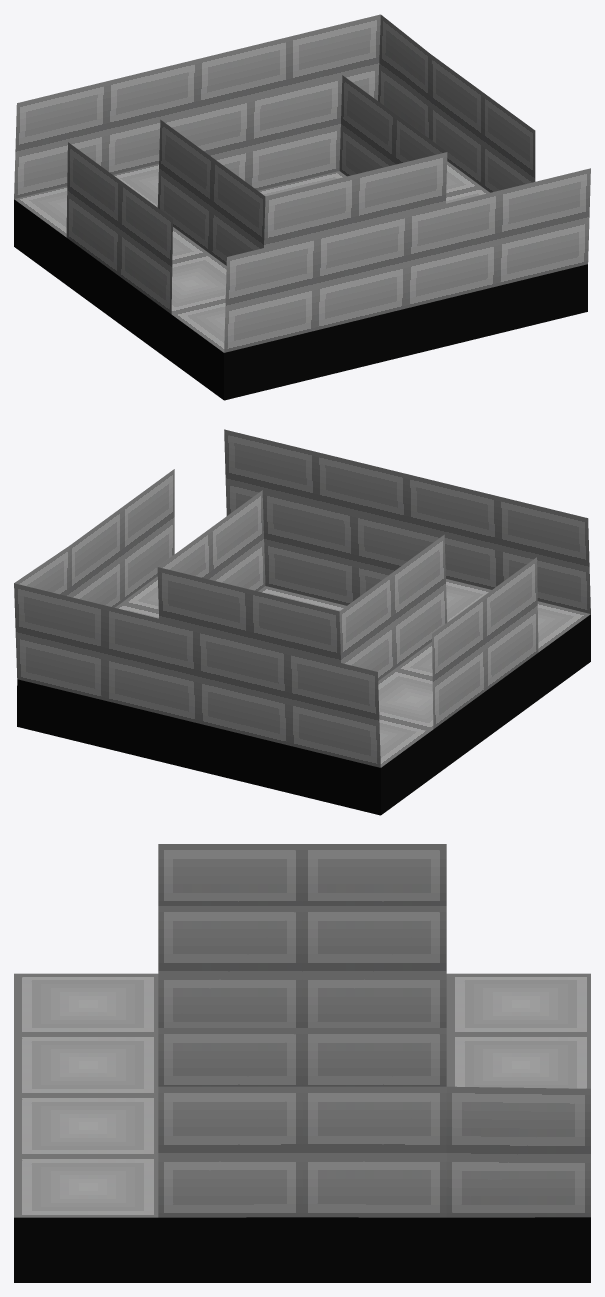
Rendered from Square3ExitLoopySmall.gltf.
3 views of the same model, one above another, from view 1: azimuth 30°, elevation 25°; view 2: azimuth 150°, elevation 25°; view 3: azimuth 270°, elevation 25° (orthographic). The views are drawn at different scales.
Parts seen in each view (by area): view 1: Square3ExitLoopySmall; view 2: Square3ExitLoopySmall; view 3: Square3ExitLoopySmall.
Part boxes in pixels (left/top/right/bottom): Square3ExitLoopySmall: left=14, top=14, right=590, bottom=400; Square3ExitLoopySmall: left=14, top=429, right=590, bottom=815; Square3ExitLoopySmall: left=14, top=844, right=590, bottom=1282.
Bounding box in the file's own units: 8.06 × 3 × 8.
Materials: 2 (1 with a texture image).
